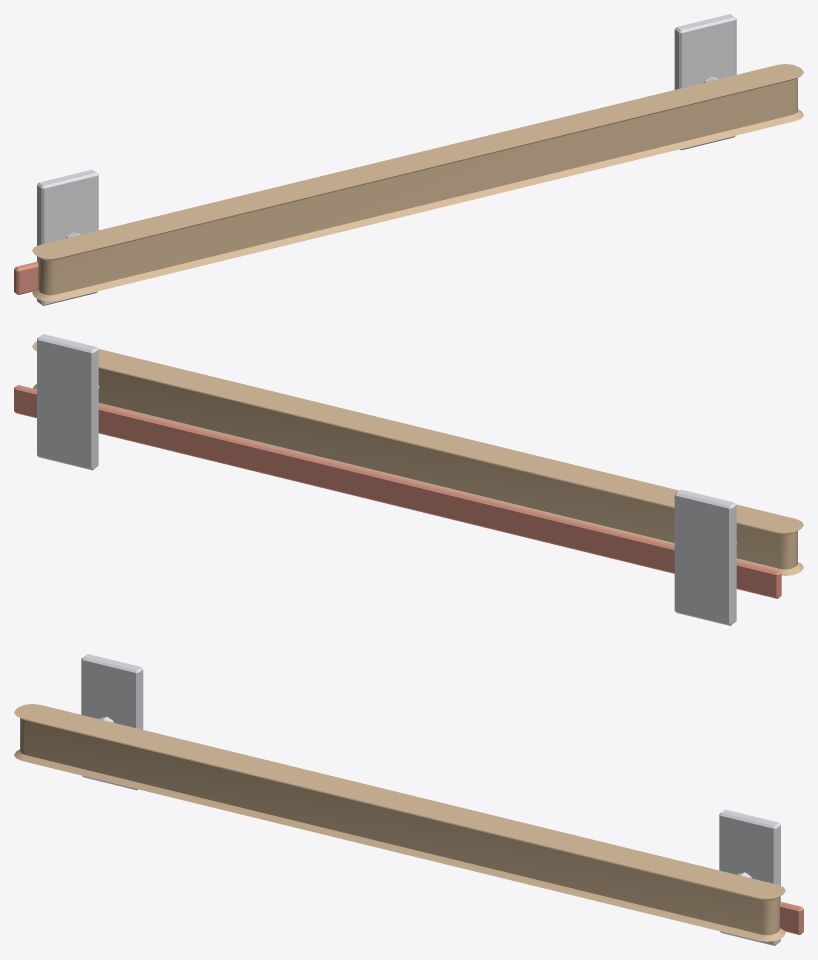
The model's file is care-home-and-day-room-corridor-handrail-section-de74c828__35766.glb.
3 views of the same model, one above another, from view 1: azimuth 30°, elevation 25°; view 2: azimuth 150°, elevation 25°; view 3: azimuth 330°, elevation 25° (orthographic).
Visible parts, largest first — view 1: corridor-handrail-section; view 2: corridor-handrail-section; view 3: corridor-handrail-section.
Part boxes in pixels (x1=…): corridor-handrail-section: x1=14, y1=14, x2=803, y2=305; corridor-handrail-section: x1=14, y1=334, x2=803, y2=625; corridor-handrail-section: x1=14, y1=654, x2=803, y2=945.
Bounding box in the file's own units: 1.2 × 0.18 × 0.119.
